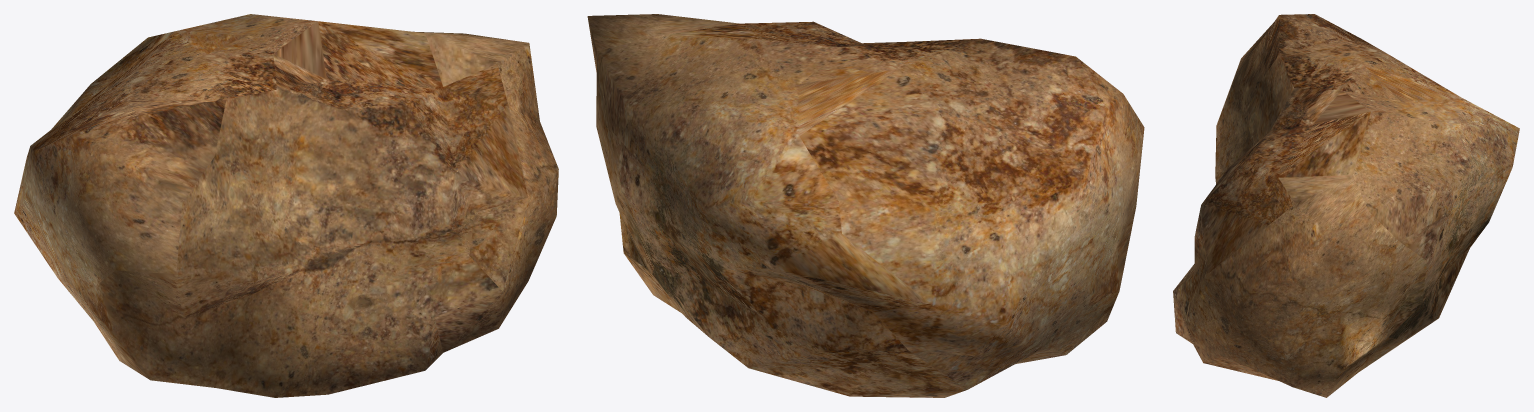
Rendered from rock_2K_bf18f3e1-4f7c-457d-b70a-56315998a211_collision.dae.
3 views of the same model, side by side, from view 1: azimuth 30°, elevation 25°; view 2: azimuth 150°, elevation 25°; view 3: azimuth 270°, elevation 25° (orthographic). The views are drawn at different scales.
Parts seen in each view (by area): view 1: Rock; view 2: Rock; view 3: Rock.
Boxes of the visible parts, bbox=[...] form: Rock: bbox=[14, 14, 558, 397]; Rock: bbox=[587, 14, 1144, 397]; Rock: bbox=[1173, 14, 1519, 397].
Size of the model in its own units: 0.2833 by 0.212 by 0.1629.
